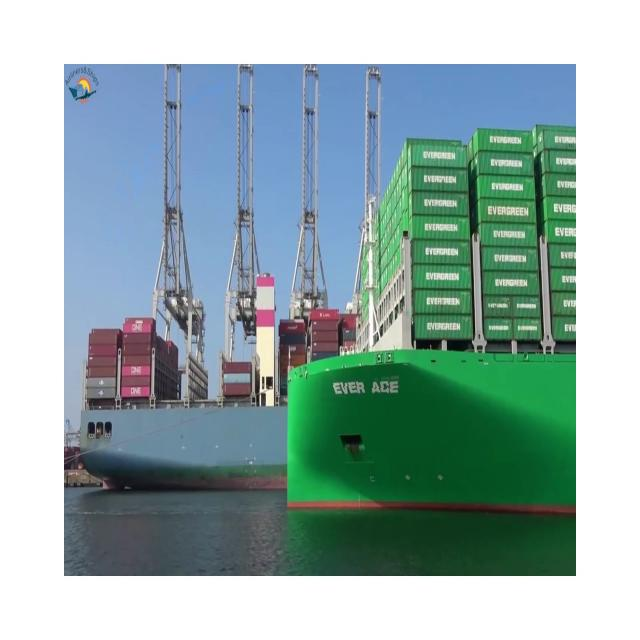OCR: (321, 371, 404, 402)
